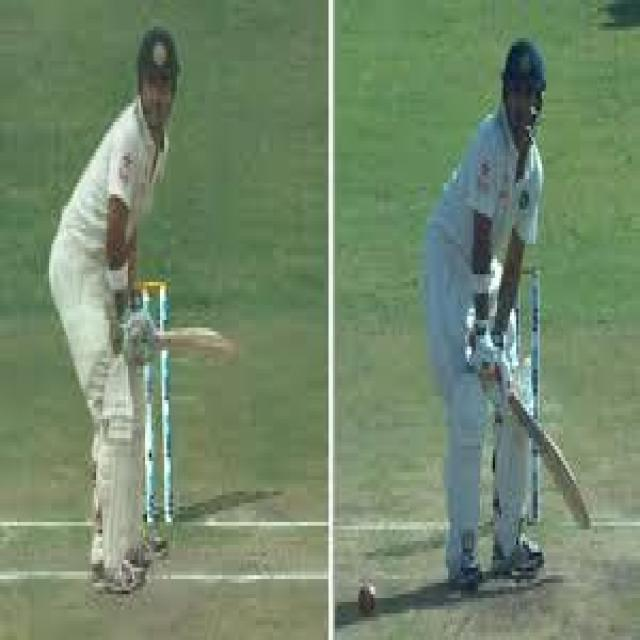bat: (499, 381, 593, 535), (152, 314, 238, 380)
toe: (217, 324, 240, 372), (570, 504, 592, 534)
